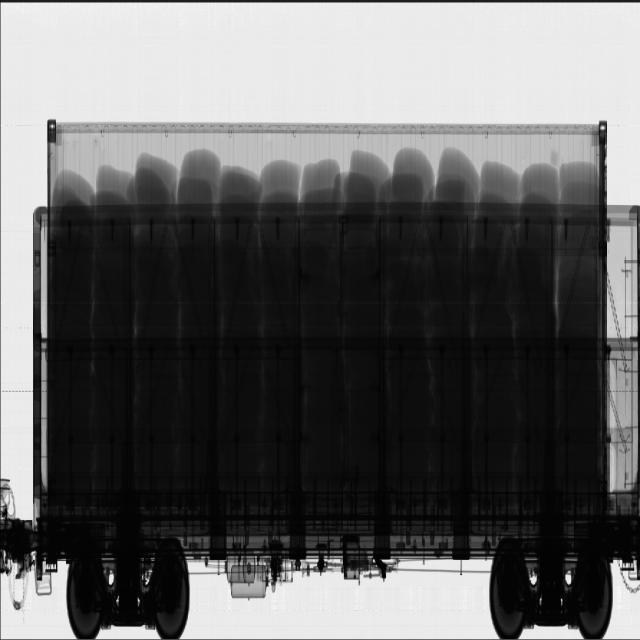clothes: (71, 127, 596, 463)
